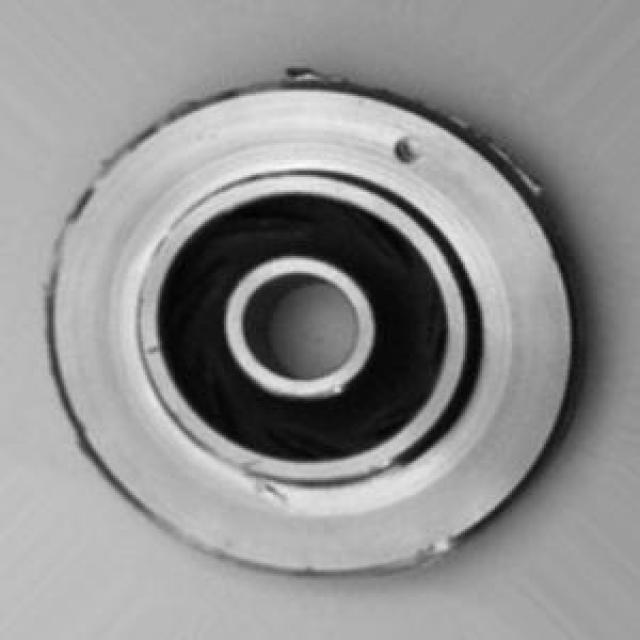Defect: (387, 135, 435, 170)
